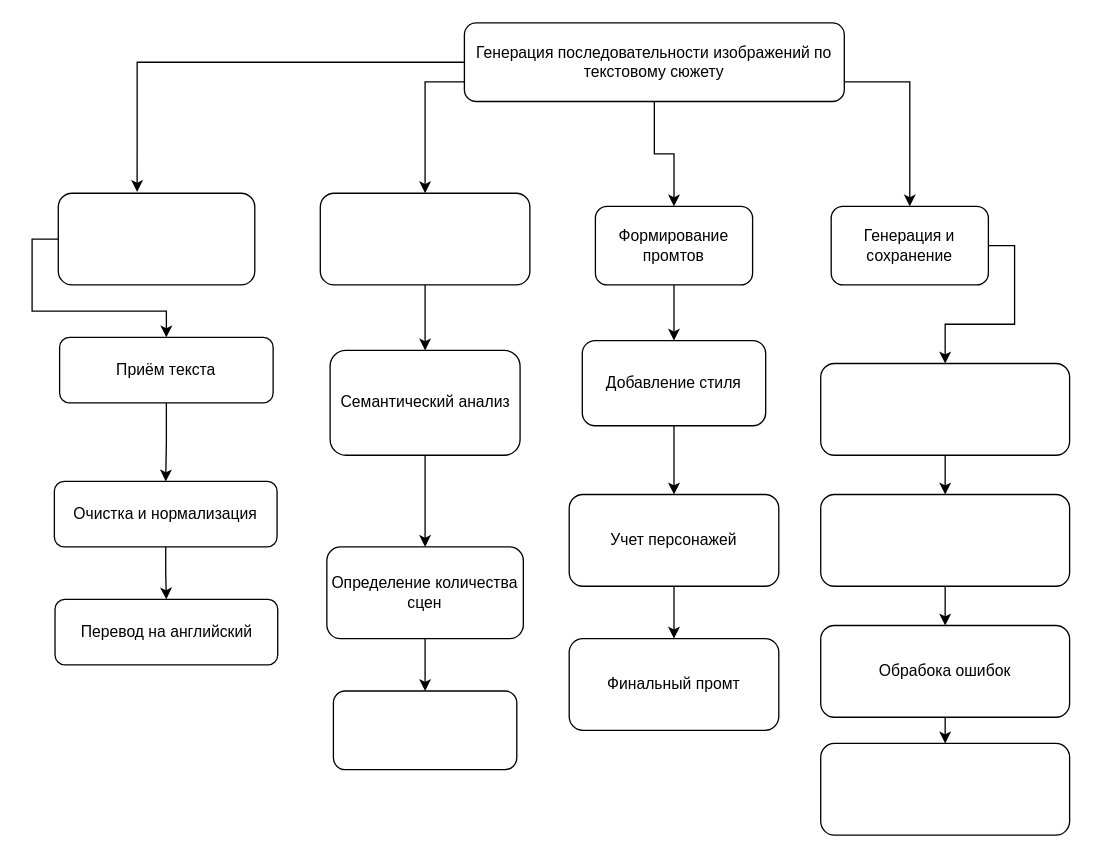
This 1093x858 diagram has some shape labels left out. The shapes that lost their labels are listed below. From the top down, each one's box as (x1, y1, x2, y2) in pixels, then its label:
(57, 192, 255, 285): Ввод и обработка текста
(319, 192, 530, 285): Разбиение на сцены
(819, 362, 1070, 455): Загрузка модели
(819, 493, 1070, 586): Генерация кадров
(332, 690, 517, 770): Формирование описания сцен
(819, 742, 1070, 835): Сохранение результатов
